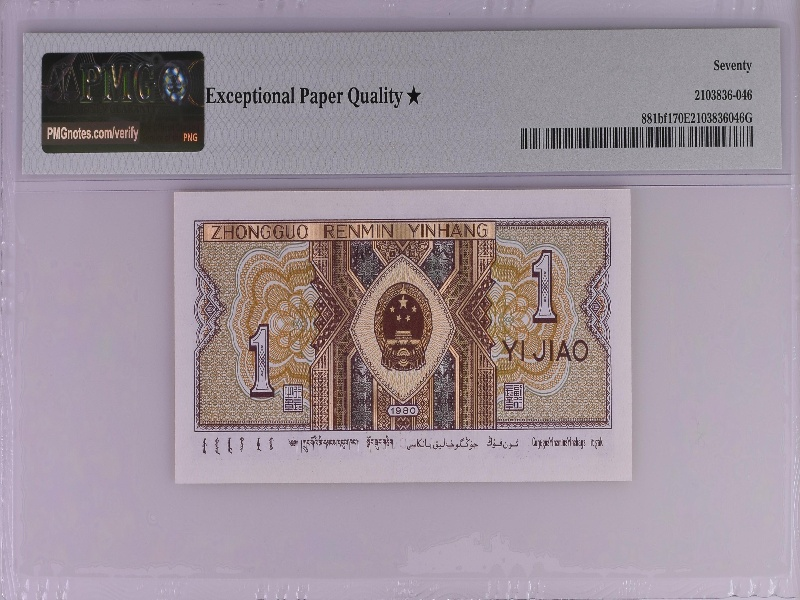papernote: (172, 187, 637, 485)
